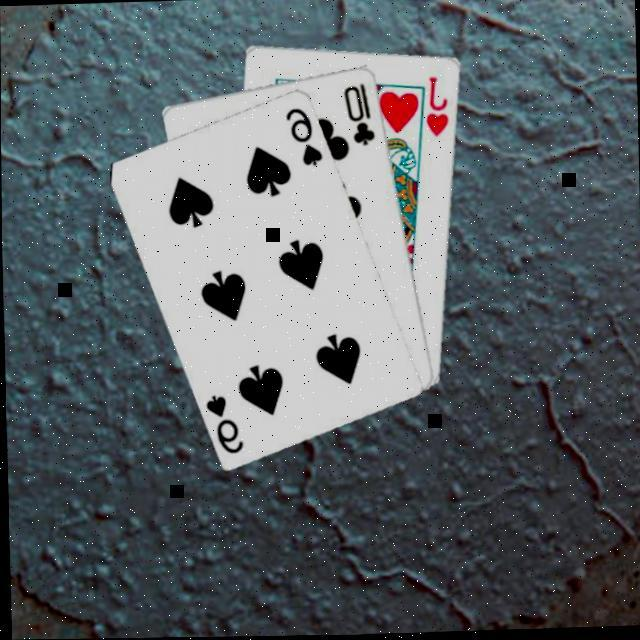10C: (341, 82, 378, 152)
6S: (283, 105, 326, 173), (203, 392, 246, 460)
JH: (423, 76, 452, 142)
